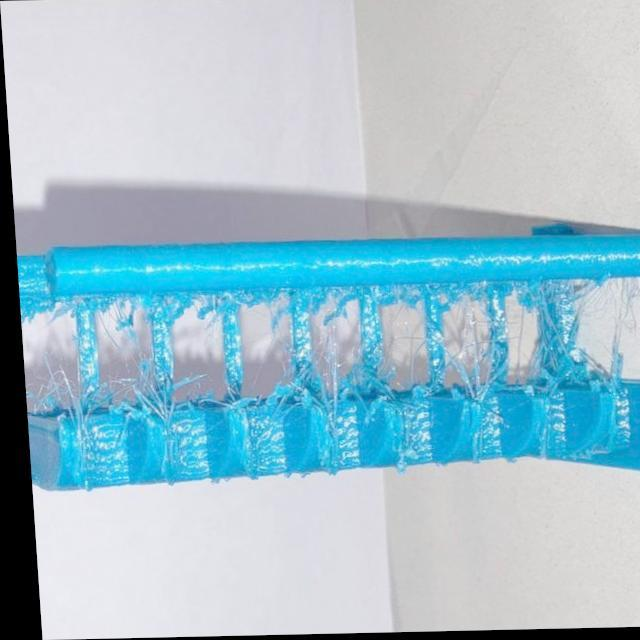stringing: (312, 313, 343, 403), (446, 299, 480, 378), (25, 364, 70, 413), (607, 268, 640, 328), (99, 293, 136, 344), (121, 352, 154, 408)
